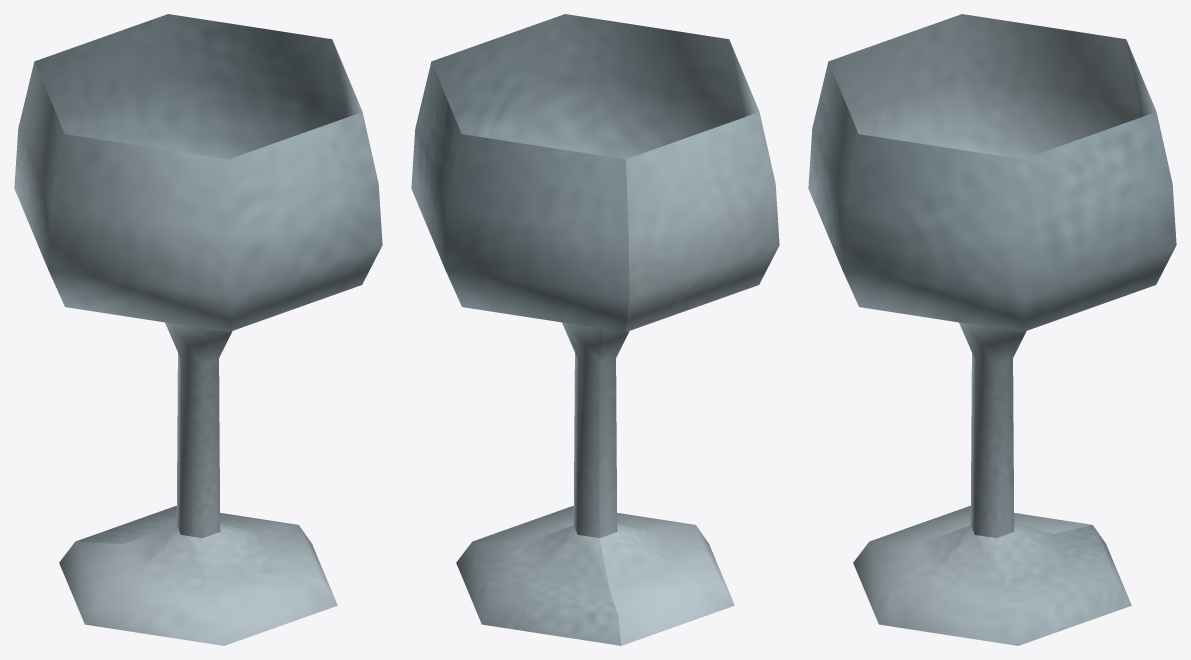
Rendered from verre.FBX.
The picture shows the model from 3 angles, left to right: view 1: azimuth 30°, elevation 25°; view 2: azimuth 150°, elevation 25°; view 3: azimuth 270°, elevation 25°; orthographic projection.
Visible parts, largest first — view 1: verre; view 2: verre; view 3: verre.
Boxes of the visible parts, x1,y1,x2,y2 form: verre: (14, 14, 382, 645); verre: (411, 14, 779, 645); verre: (808, 14, 1176, 645).
Bounding box in the file's own units: 12.19 × 17.34 × 11.63.
Materials: 1 (1 with a texture image).
